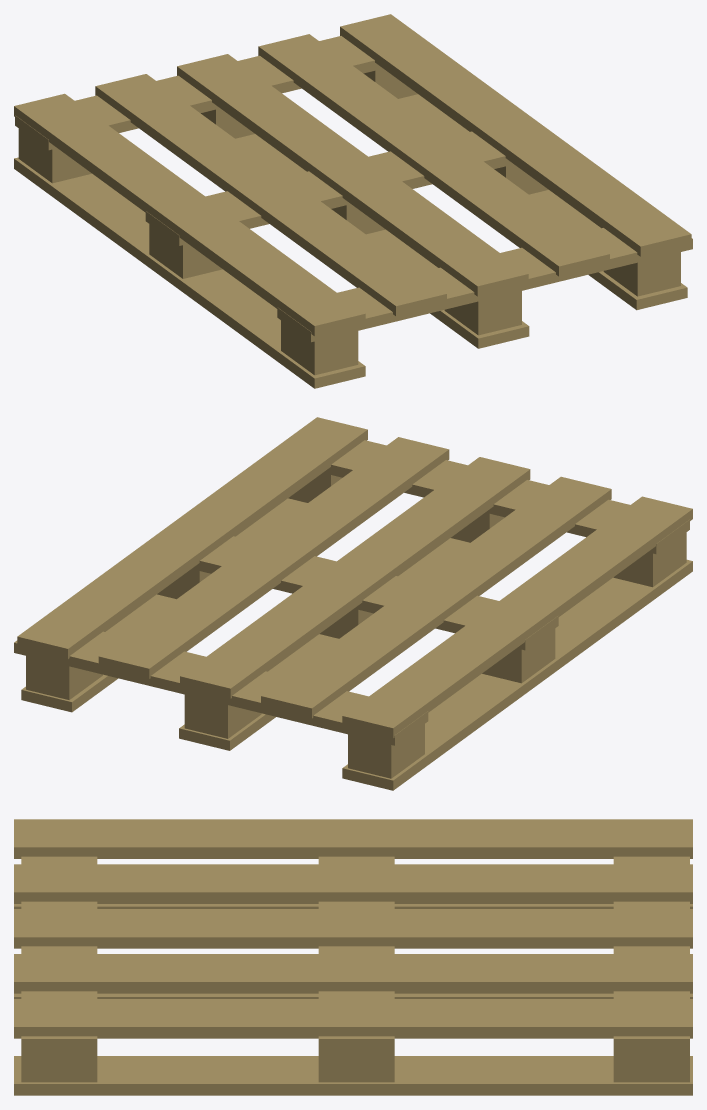
Rendered from prop_pallet.glb.
3 views of the same model, one above another, from view 1: azimuth 30°, elevation 25°; view 2: azimuth 150°, elevation 25°; view 3: azimuth 270°, elevation 25° (orthographic). The views are drawn at different scales.
Parts seen in each view (by area): view 1: Pallet; view 2: Pallet; view 3: Pallet.
Boxes of the visible parts, x1=… form: Pallet: x1=14, y1=14, x2=692, y2=388; Pallet: x1=14, y1=417, x2=692, y2=790; Pallet: x1=14, y1=819, x2=692, y2=1095.
Bounding box in the file's own units: 0.8925 × 0.14 × 1.22.
Materials: 1 (1 with a texture image).
